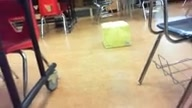cube: (101, 20, 131, 49)
